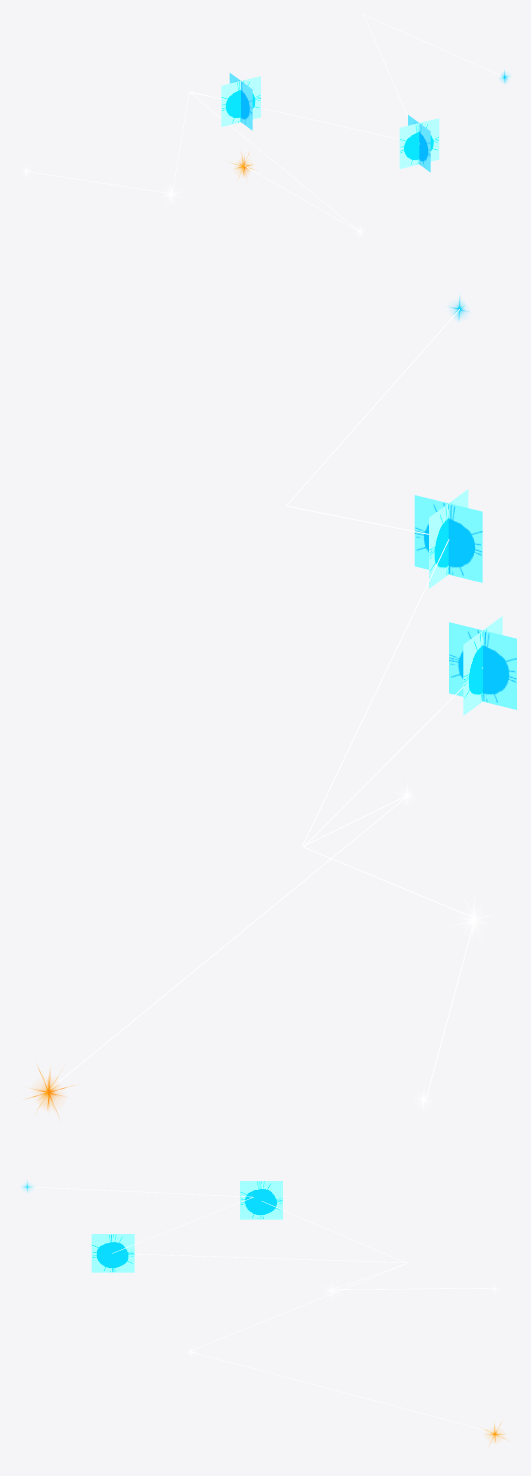
Rendered from cygnus.glb.
3 views of the same model, one above another, from view 1: azimuth 30°, elevation 25°; view 2: azimuth 150°, elevation 25°; view 3: azimuth 270°, elevation 25° (orthographic). The views are drawn at different scales.
Parts seen in each view (by area): view 1: star_blue_1.002, star_blue_1.001, cygnus_line; view 2: star_blue_1.002, star_blue_1.001, cygnus_line; view 3: cygnus_line, star_blue_1.002, star_blue_1.001.
Part boxes in pixels (box(x1,y1,x2,y2)): star_blue_1.002: box(399, 115, 439, 172); star_blue_1.001: box(221, 73, 260, 130); cygnus_line: box(26, 14, 503, 231); star_blue_1.002: box(414, 489, 482, 588); star_blue_1.001: box(449, 616, 516, 715); cygnus_line: box(49, 309, 482, 1097); cygnus_line: box(27, 1186, 494, 1432); star_blue_1.002: box(91, 1234, 134, 1272); star_blue_1.001: box(240, 1181, 282, 1219).
Bounding box in the file's own units: 3.51 × 4 × 6.44.
6 materials, 5 textured.
